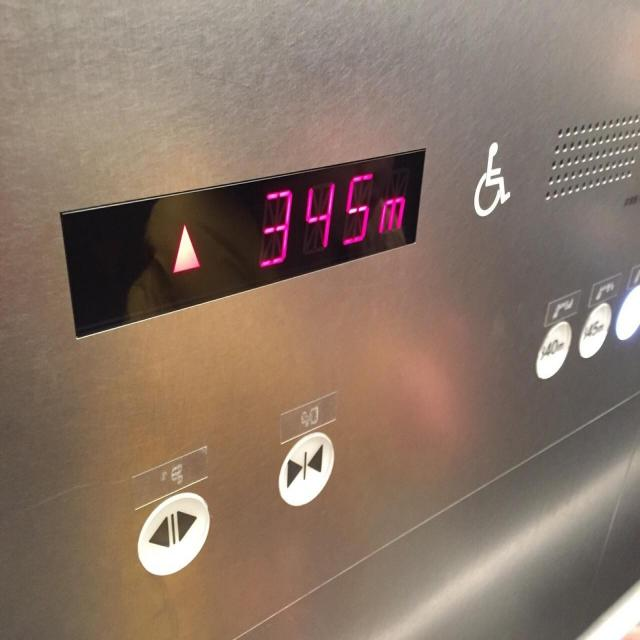close: (278, 429, 336, 506)
empty: (614, 282, 640, 340)
led: (59, 148, 425, 338)
open: (136, 492, 210, 577)
text_340m: (534, 319, 572, 379)
text_345m: (578, 302, 612, 359)
